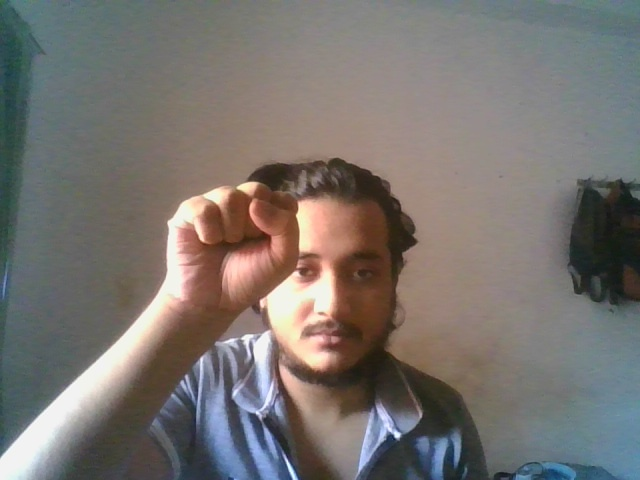Close: (164, 182, 301, 309)
